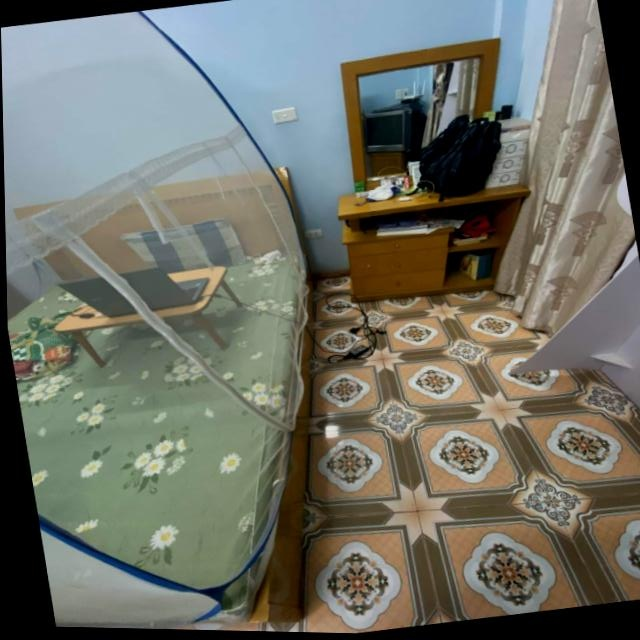outlet: (305, 227, 324, 240)
